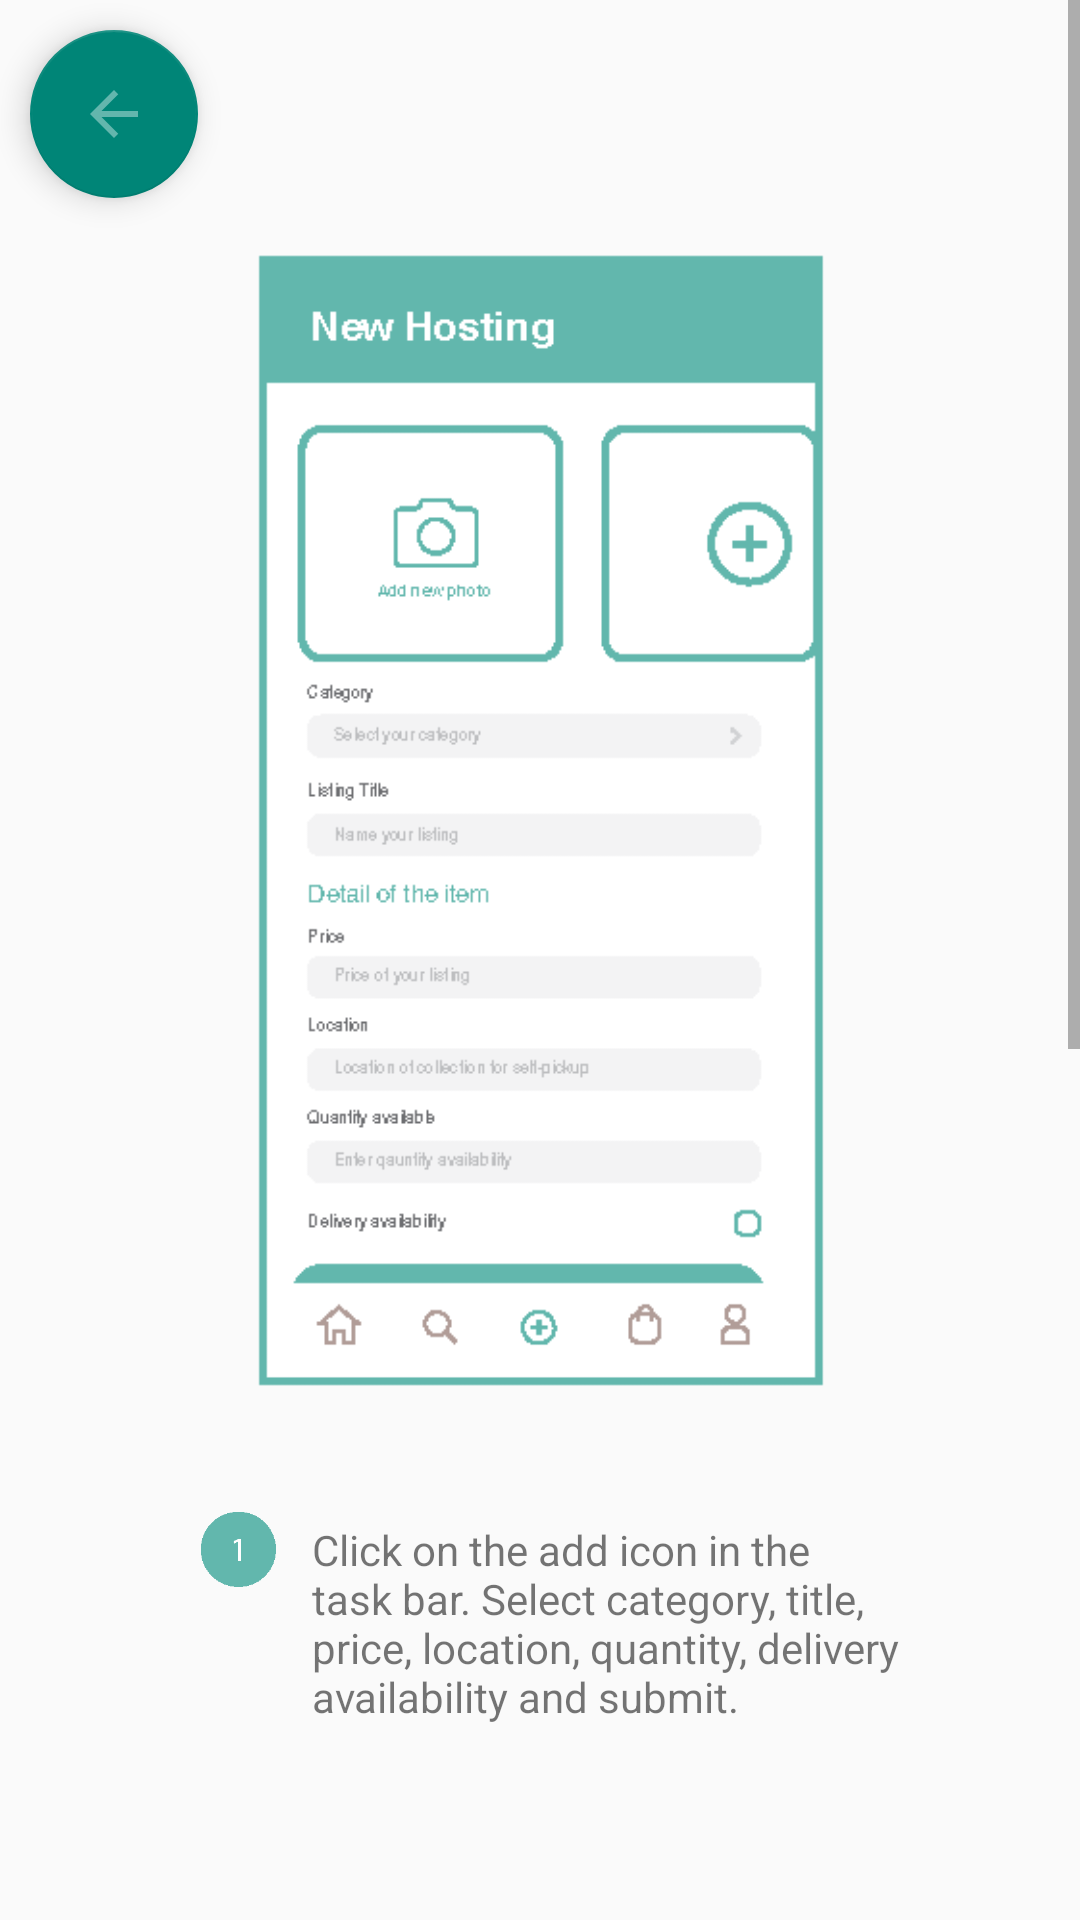

Screen size 1080×1920. Icon name, then its box in pixels as bbox=[x1, y1, x2, y2]:
arrow back: bbox=[30, 30, 198, 198]
